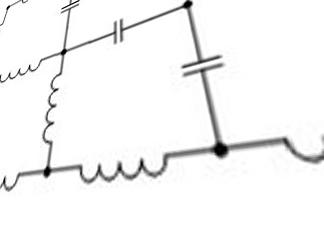inductor: (29, 67, 73, 146), (68, 158, 192, 185), (0, 51, 44, 85)
